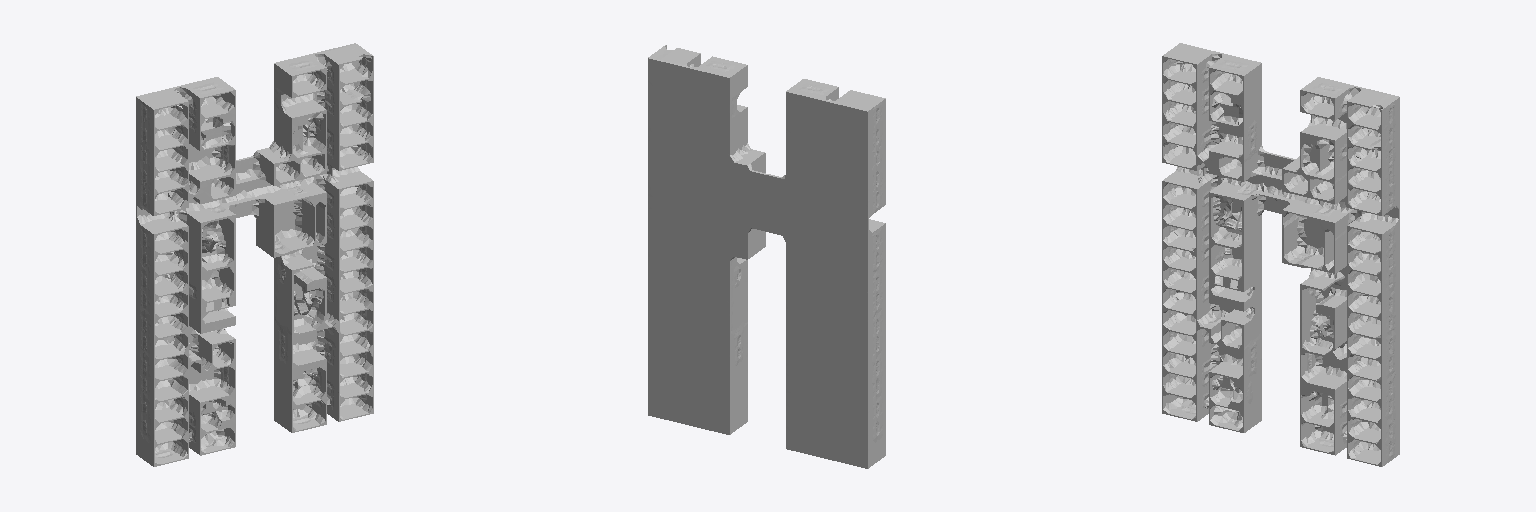
File: Tembusu L12 wrap.obj
3 renders of one model, left to right at view 1: azimuth 30°, elevation 25°; view 2: azimuth 150°, elevation 25°; view 3: azimuth 330°, elevation 25°, orthographic.
Size of the model in its own units: 25432 by 39432 by 4111.